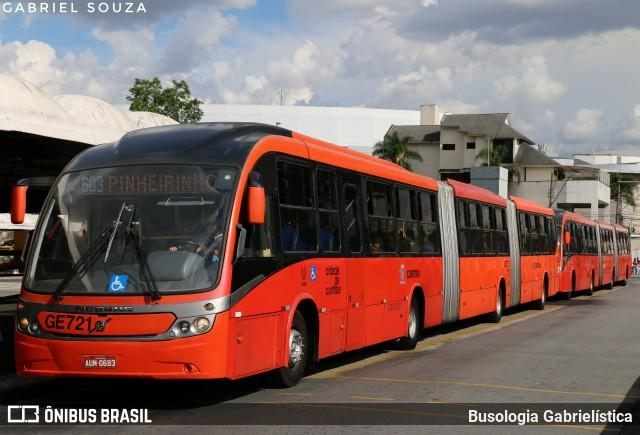PINHEIRINHO: (105, 172, 221, 196)
